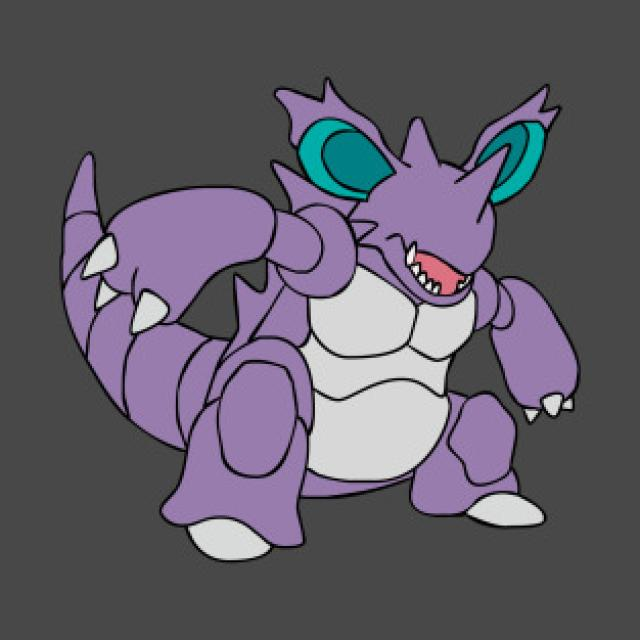Nidoking: (88, 98, 574, 524)
